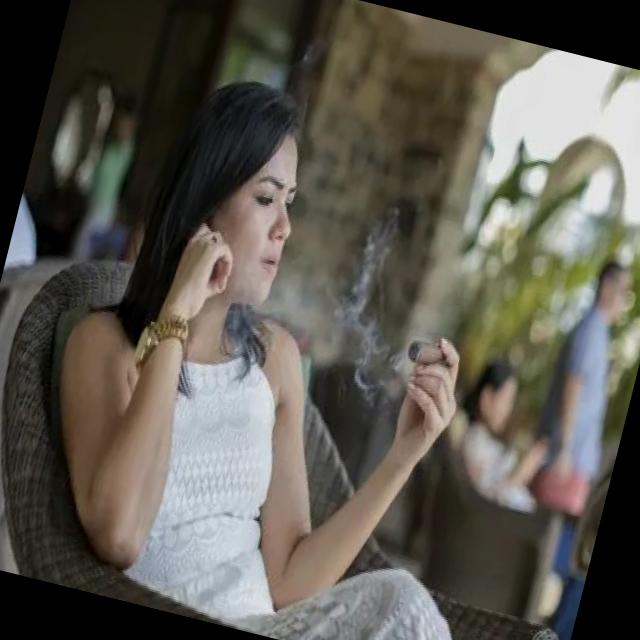smoke: (398, 333, 452, 378)
